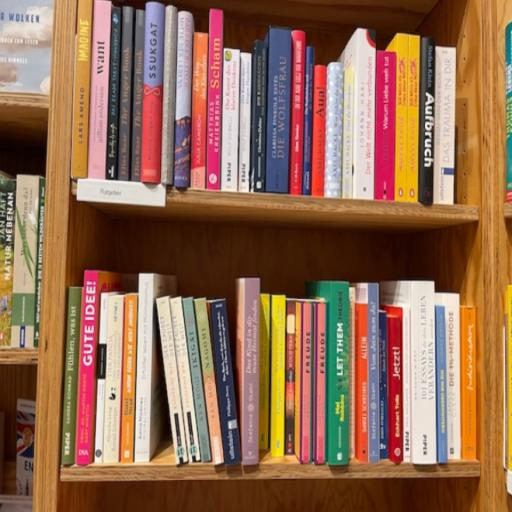bed: (265, 27, 292, 193), (141, 2, 164, 182), (61, 288, 82, 465), (174, 11, 194, 188)
road: (51, 1, 497, 512)
